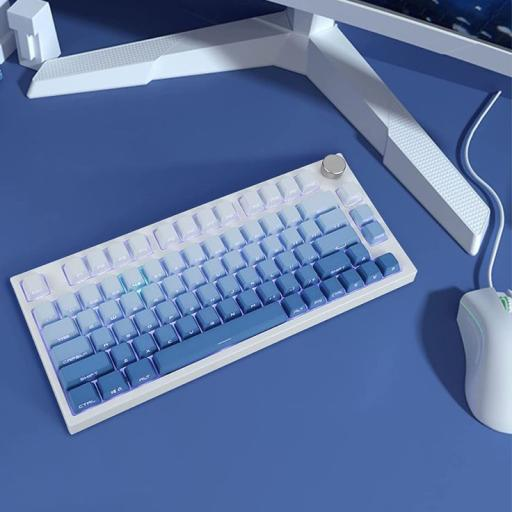keyboard: (12, 150, 425, 424)
